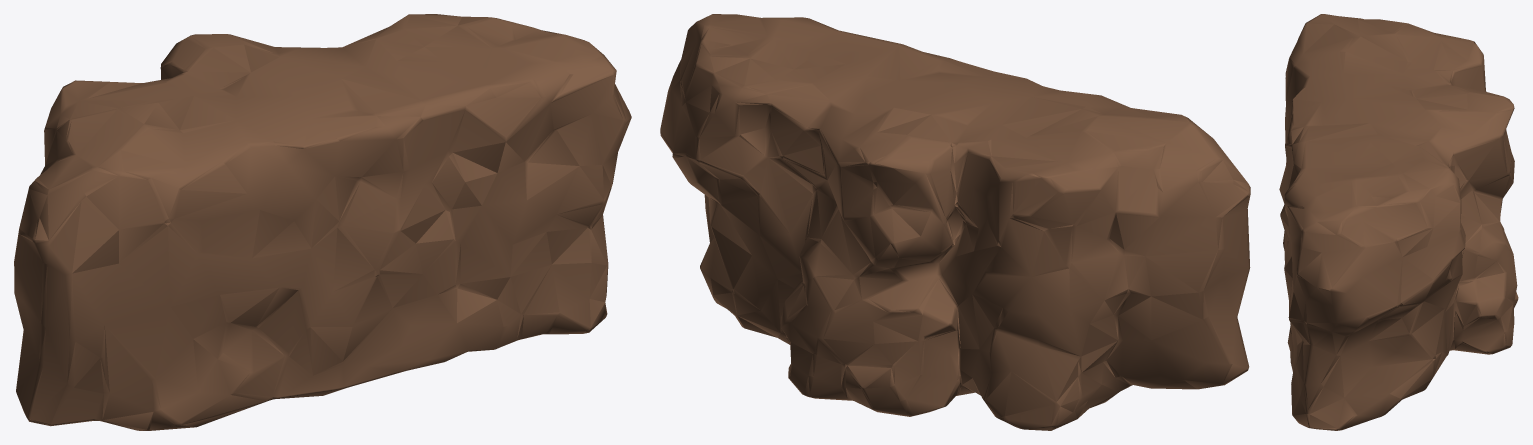
The model's file is env_undergroundrock_side01.fbx.
The picture shows the model from 3 angles, left to right: view 1: azimuth 30°, elevation 25°; view 2: azimuth 150°, elevation 25°; view 3: azimuth 270°, elevation 25°; orthographic projection. The views are drawn at different scales.
Parts seen in each view (by area): view 1: Cube.022; view 2: Cube.022; view 3: Cube.022.
Part boxes in pixels (<box>): Cube.022: <box>14,14,631,430</box>; Cube.022: <box>660,14,1250,430</box>; Cube.022: <box>1279,14,1518,430</box>.
Size of the model in its own units: 112 by 51.58 by 47.75.
